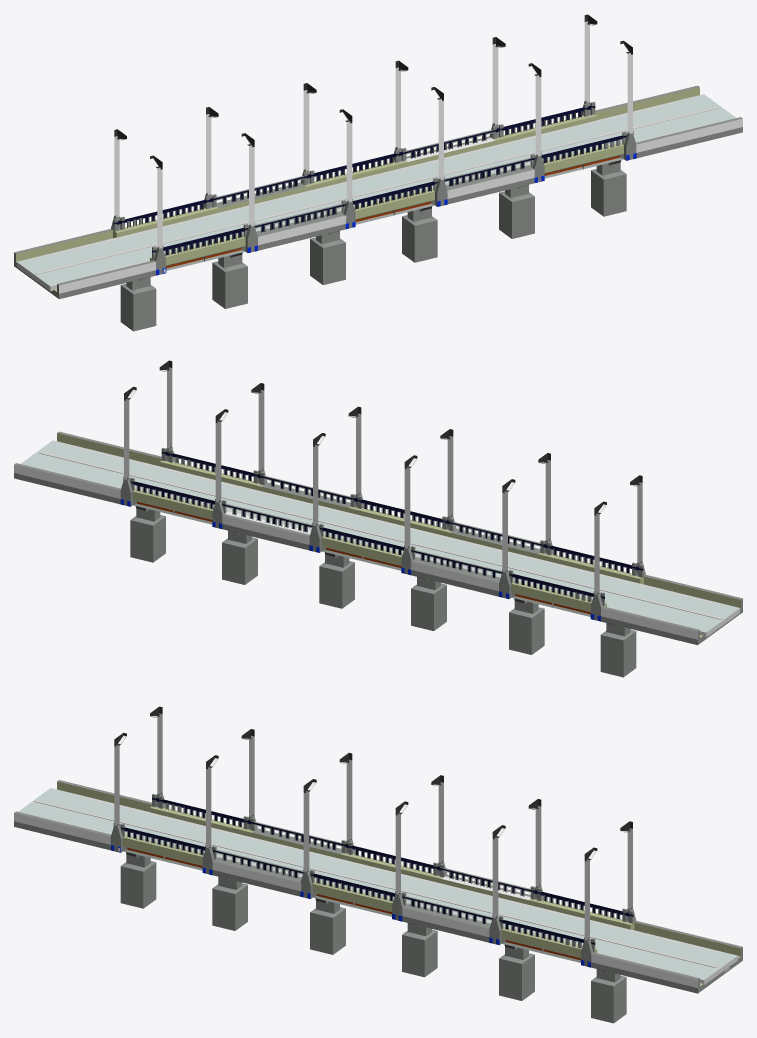
File: Puente.fbx
3 renders of one model, top to bottom at view 1: azimuth 30°, elevation 25°; view 2: azimuth 150°, elevation 25°; view 3: azimuth 330°, elevation 25°, orthographic.
Parts seen in each view (by area): view 1: Cube.010; view 2: Cube.010; view 3: Cube.010.
Boxes of the visible parts, <box> form: Cube.010: <box>14,14,742,331</box>; Cube.010: <box>14,360,742,677</box>; Cube.010: <box>14,706,742,1023</box>.
Bounding box in the file's own units: 27201 × 6725 × 3126.
